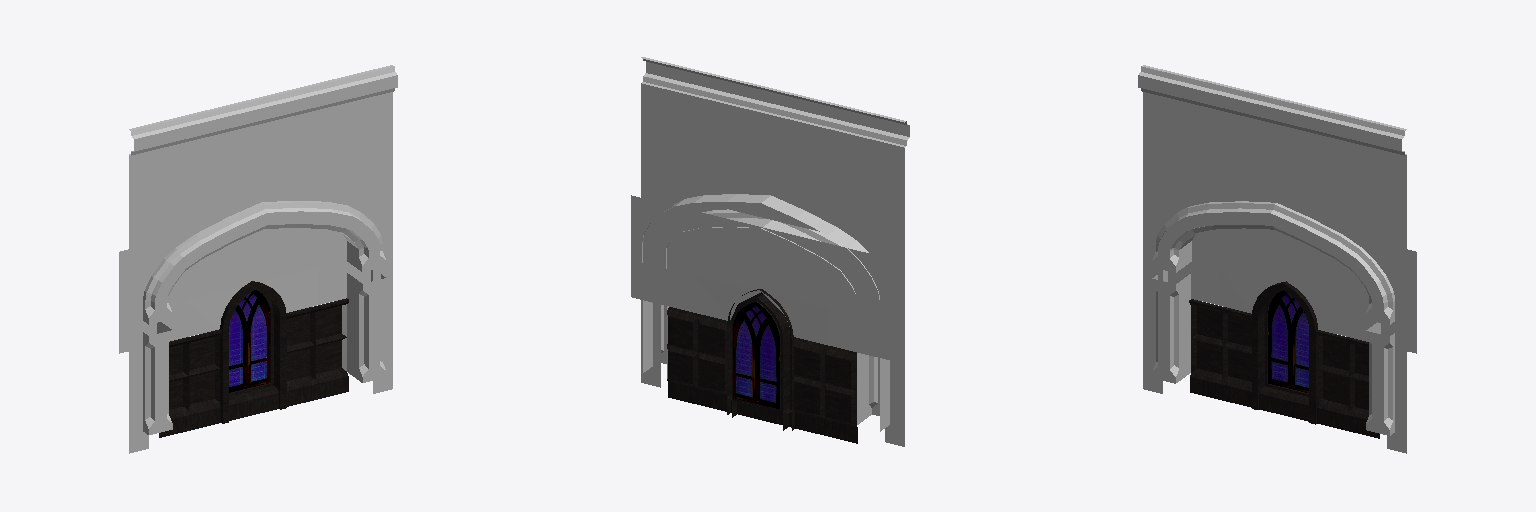
3 views of the same model, side by side, from view 1: azimuth 30°, elevation 25°; view 2: azimuth 150°, elevation 25°; view 3: azimuth 330°, elevation 25° (orthographic).
Visible parts, largest first — view 1: [Imported]_window_wall_window_wall; view 2: [Imported]_window_wall_window_wall; view 3: [Imported]_window_wall_window_wall.
Boxes of the visible parts, x1,y1,x2,y2 form: [Imported]_window_wall_window_wall: [119, 65, 397, 453]; [Imported]_window_wall_window_wall: [631, 57, 909, 446]; [Imported]_window_wall_window_wall: [1138, 65, 1416, 453].
Bounding box in the file's own units: 10.9 × 12.8 × 1.48.
Materials: 3 (2 with a texture image).